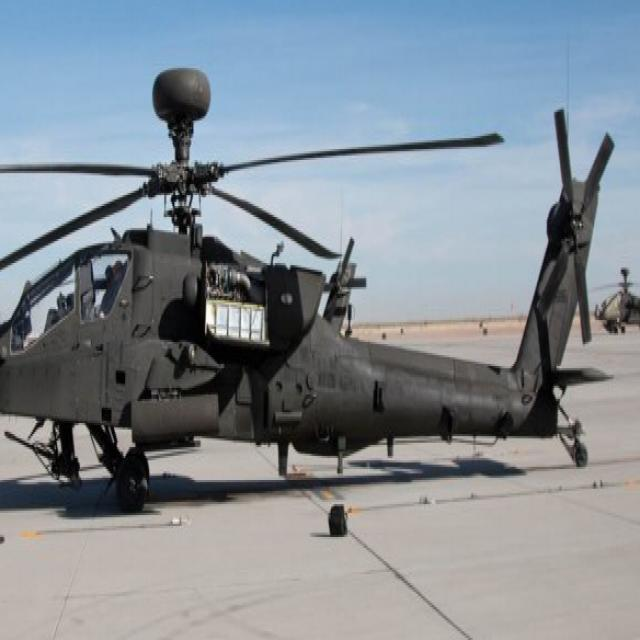helicopter: (1, 40, 620, 514)
